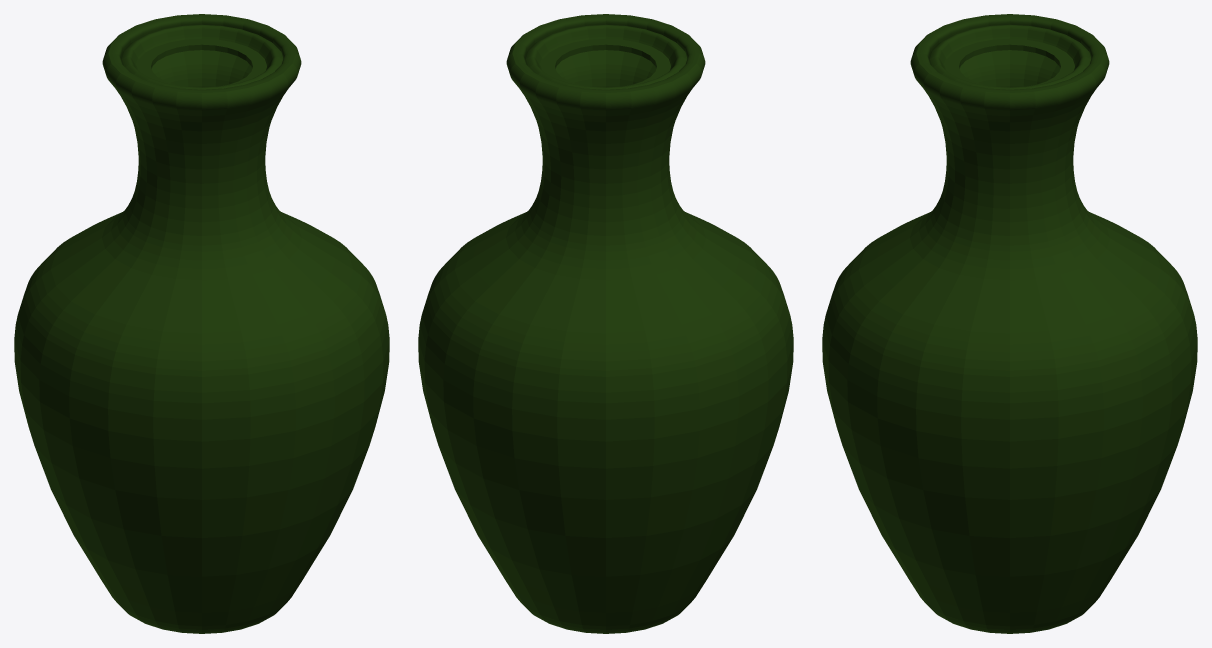
Rendered from model_Historical_Vase.fbx.
3 renders of one model, left to right at view 1: azimuth 30°, elevation 25°; view 2: azimuth 150°, elevation 25°; view 3: azimuth 270°, elevation 25°, orthographic.
Visible parts, largest first — view 1: vase; view 2: vase; view 3: vase.
Boxes of the visible parts, x1,y1,x2,y2 form: vase: (14, 14, 389, 633); vase: (418, 14, 793, 633); vase: (822, 14, 1197, 633).
Bounding box in the file's own units: 1668 × 2724 × 1668.
